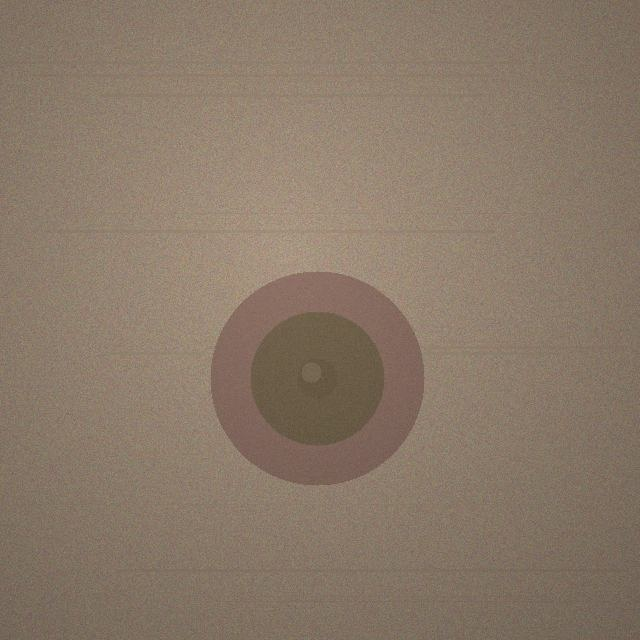good: (210, 271, 424, 485)
